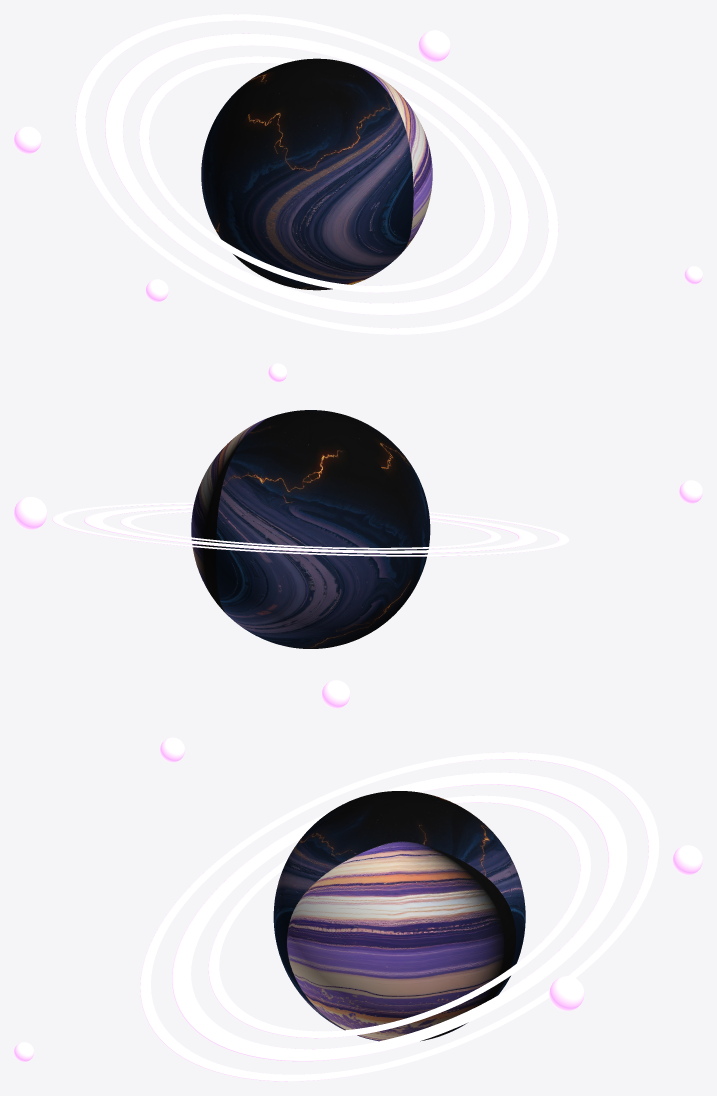
The model's file is chronos_citadel.glb.
The picture shows the model from 3 angles, top to bottom: view 1: azimuth 30°, elevation 25°; view 2: azimuth 150°, elevation 25°; view 3: azimuth 270°, elevation 25°; orthographic projection. The views are drawn at different scales.
Visible parts, largest first — view 1: Planet_chronos_citadel, JovianRing_1, JovianRing_2, JovianRing_0, Moon_0, Moon_1; view 2: Planet_chronos_citadel, JovianRing_1, JovianRing_2, JovianRing_0, Moon_0, Moon_1; view 3: Planet_chronos_citadel, JovianRing_1, JovianRing_2, JovianRing_0, Moon_0, Moon_1.
Boxes of the visible parts, box(x1,y1,x2,y2) form: Planet_chronos_citadel: box(201, 58, 432, 290); JovianRing_1: box(105, 33, 528, 315); JovianRing_2: box(75, 14, 558, 334); JovianRing_0: box(139, 56, 494, 292); Moon_0: box(418, 30, 450, 62); Moon_1: box(14, 126, 41, 153); Planet_chronos_citadel: box(191, 410, 430, 648); JovianRing_1: box(84, 505, 537, 553); JovianRing_2: box(52, 502, 569, 556); JovianRing_0: box(120, 510, 501, 549); Moon_0: box(14, 496, 47, 529); Moon_1: box(322, 680, 350, 708); Planet_chronos_citadel: box(273, 791, 525, 1041); JovianRing_1: box(172, 772, 627, 1061); JovianRing_2: box(140, 752, 659, 1081); JovianRing_0: box(208, 795, 590, 1038); Moon_0: box(549, 976, 584, 1011); Moon_1: box(672, 845, 702, 875).
Size of the model in its own units: 4.88 by 2 by 5.47.
Materials: 2 (1 with a texture image).
